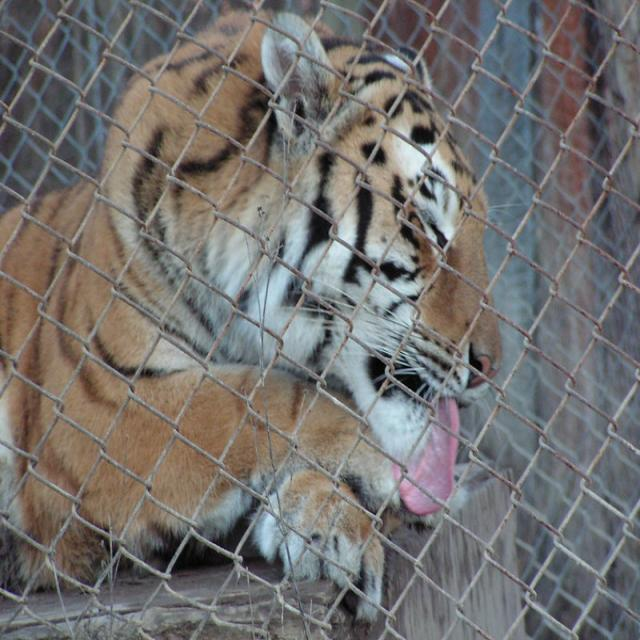Tiger: (0, 9, 503, 628)
